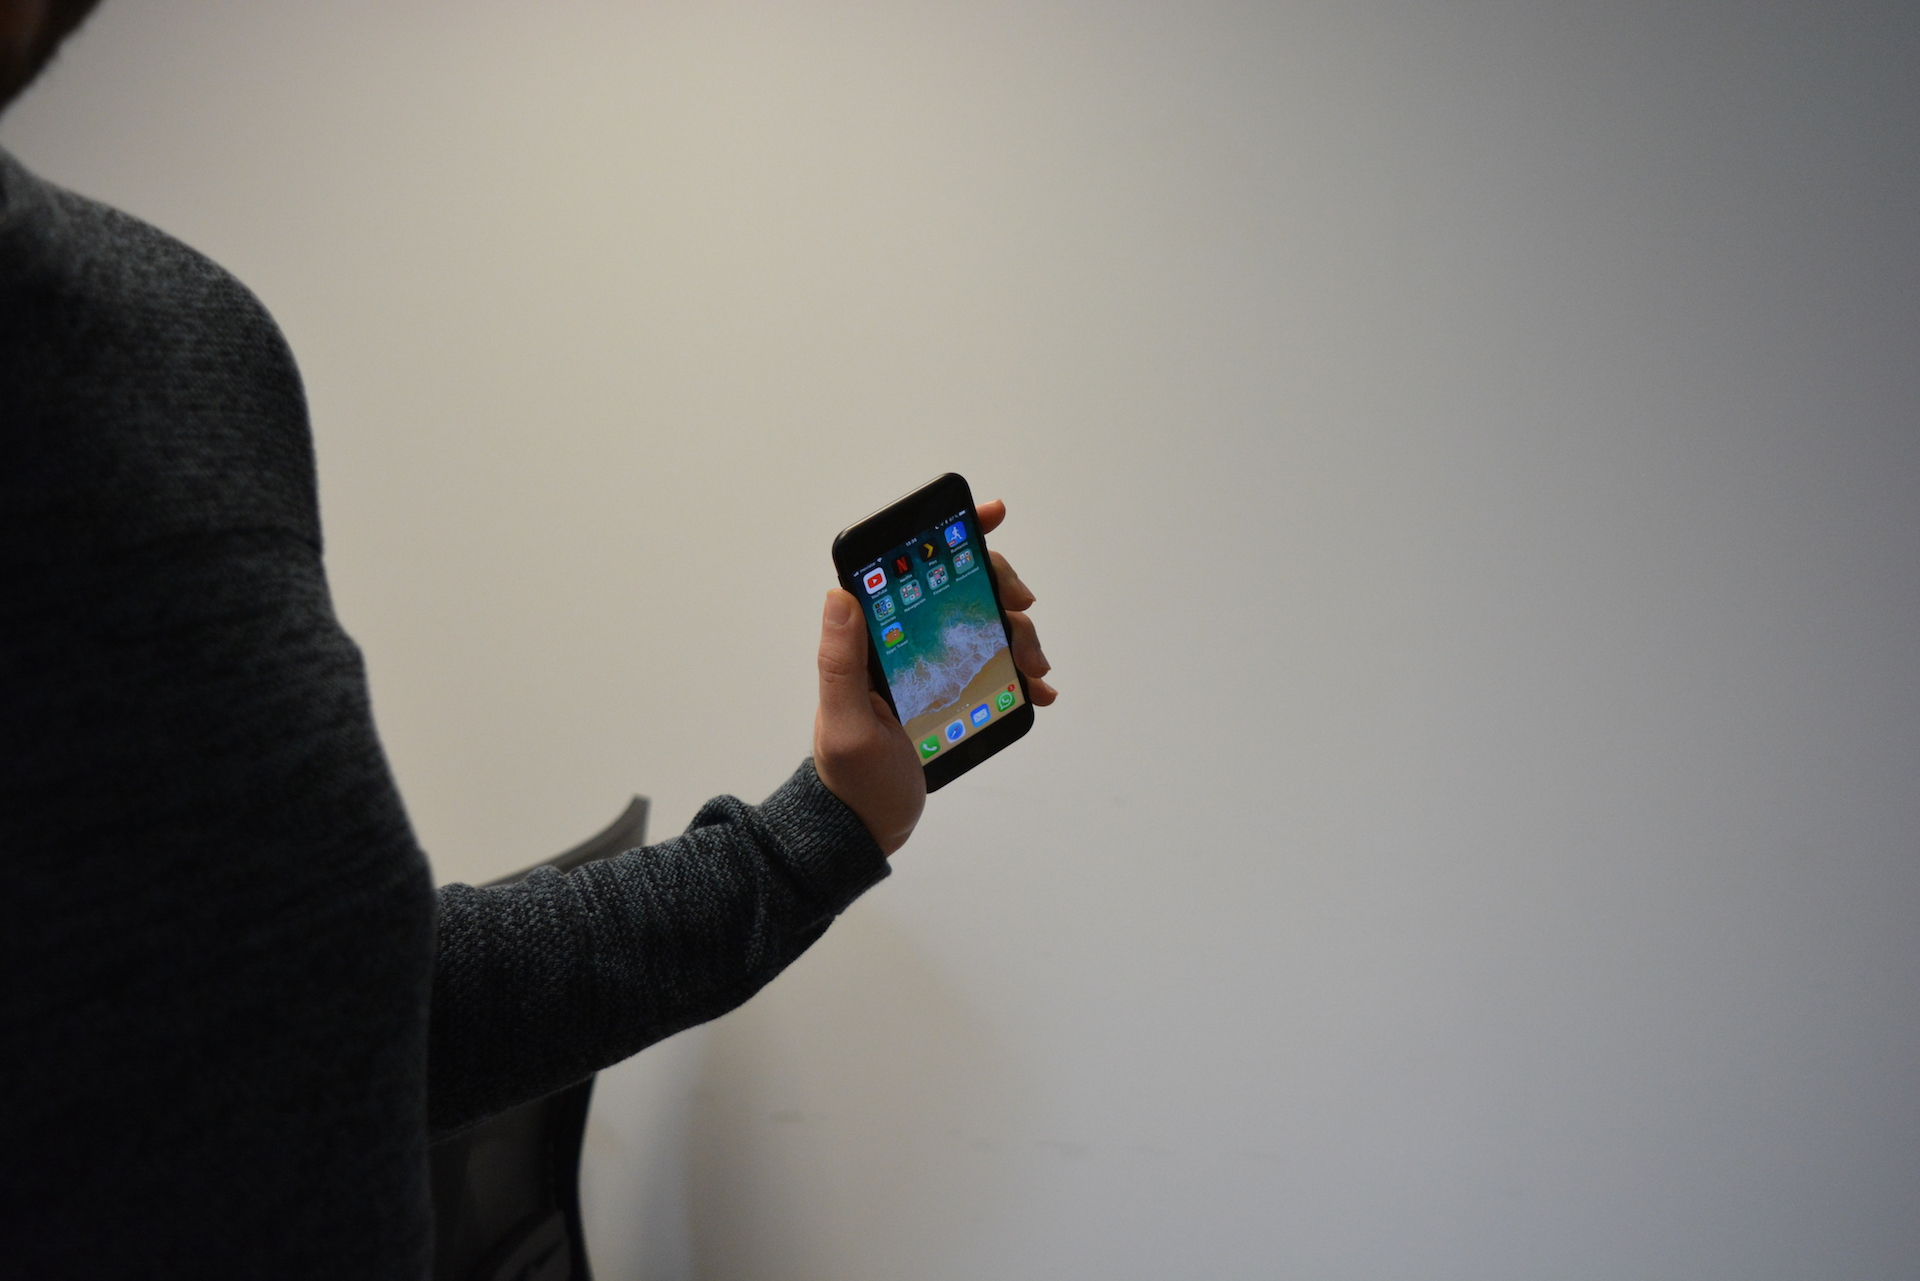smartphone: (831, 470, 1036, 796)
